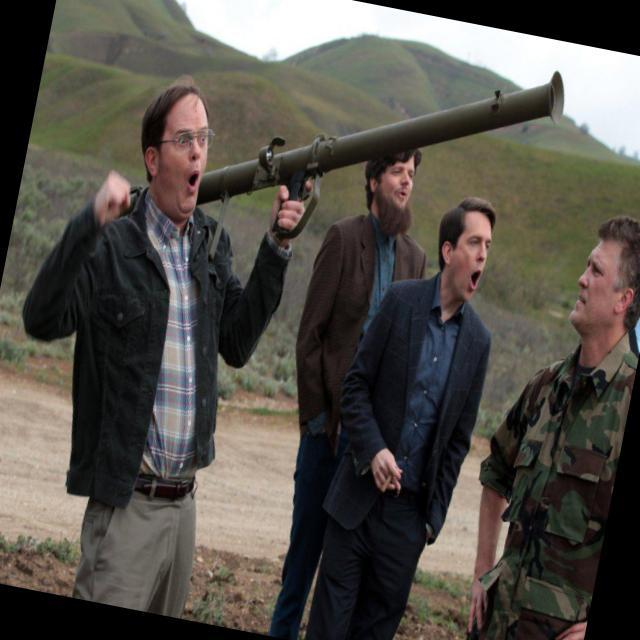rocket: (194, 3, 570, 272)
